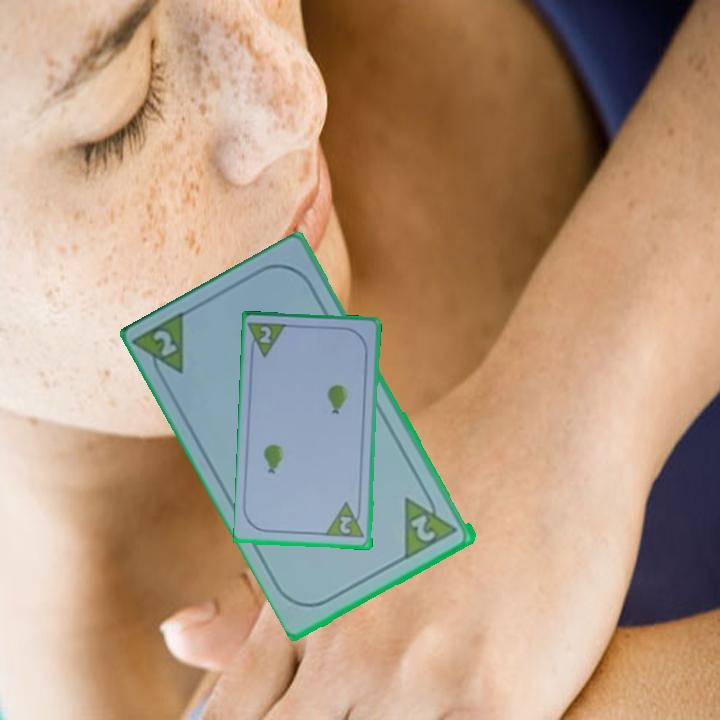2p: (132, 307, 191, 389), (400, 485, 461, 562), (324, 500, 367, 541), (256, 323, 274, 346)
